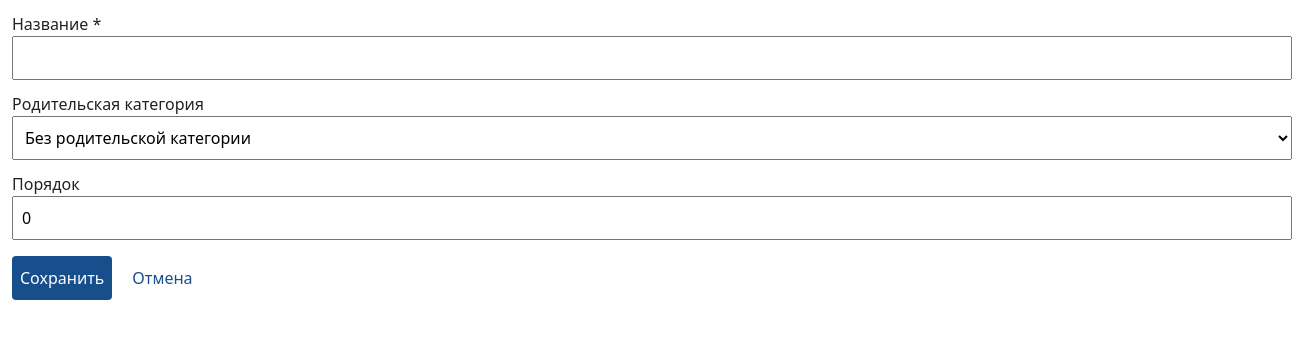
Test: category form › blocks invalid sort order -1
Type "Категория" into the field with id "category-name". click: (652, 58)
box: [12,36,1292,80]
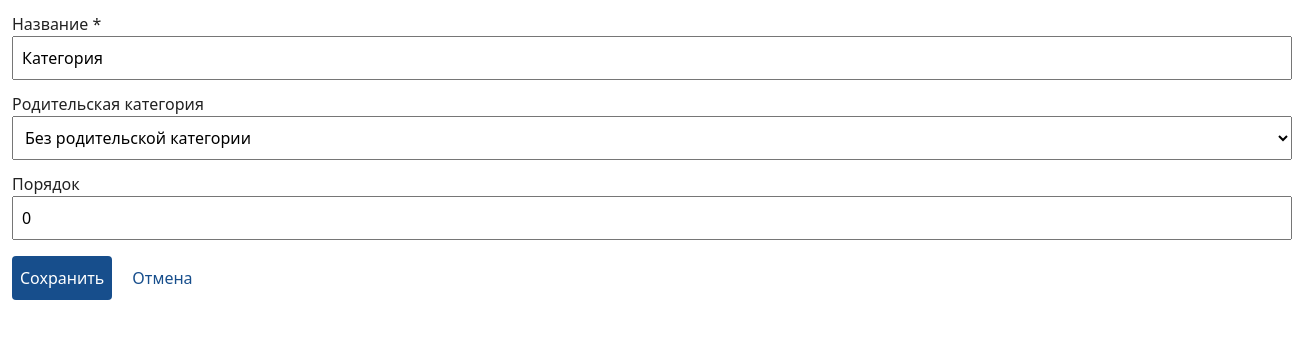
Replace the text in the number field with id "category-order" with "-1". click: (652, 218)
box: [12,196,1292,240]
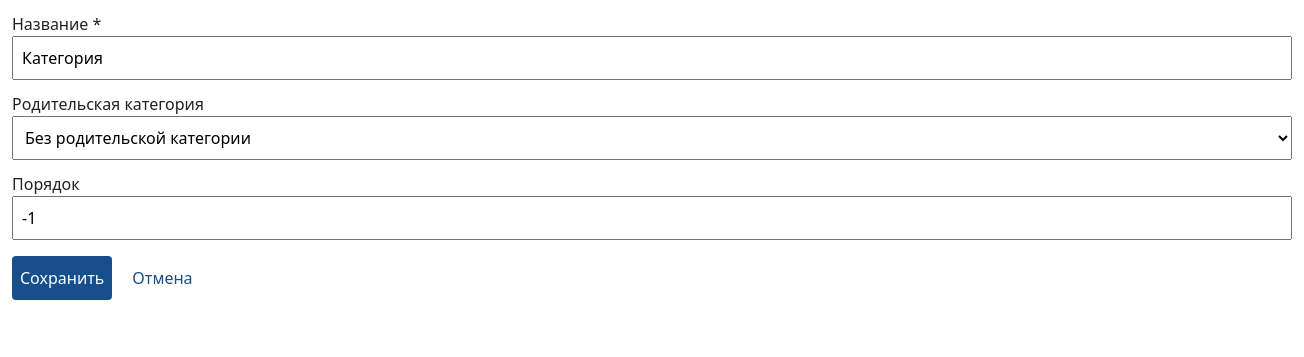
Submit the form
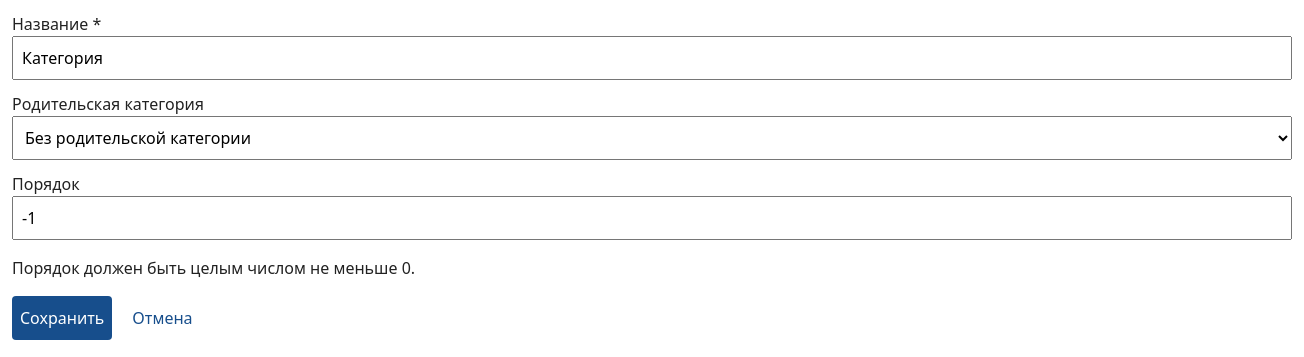
expect the message "Порядок должен быть целым числом не меньше 0." is shown: met, box [12,257,415,279]
